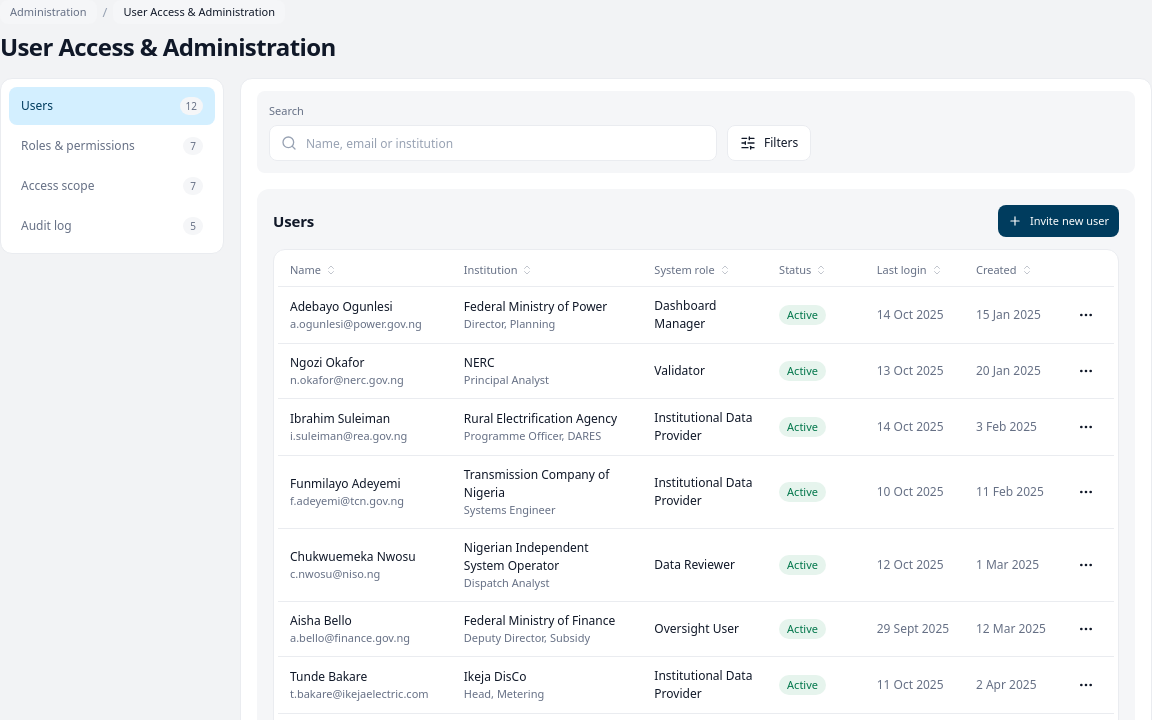
it: AdministrationPage › renders the administration sections as tabs without summary cards
Expected: the heading "User Access & Administration" is shown, [0,30,336,63]
What coordinates should you click on to do the following:
click the tab "Roles & permissions 7"
I would click on:
 (112, 146)
Its box is [9,127,215,165].
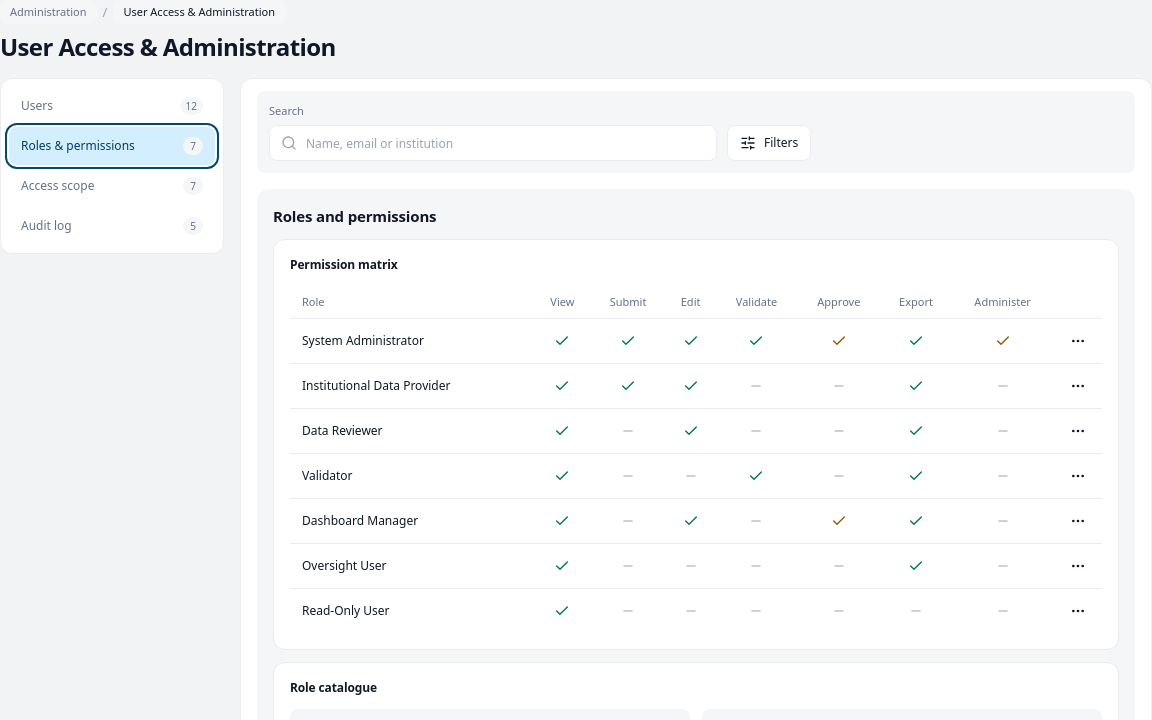
Expected: the table named "Permissions granted to each system role" is shown, [290,286,1102,633]
Result: the button named "Actions for System Administrator" is shown at [1062,325,1094,357]
